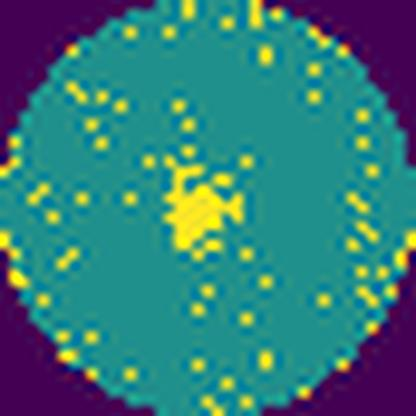Center: (164, 152, 245, 256)
